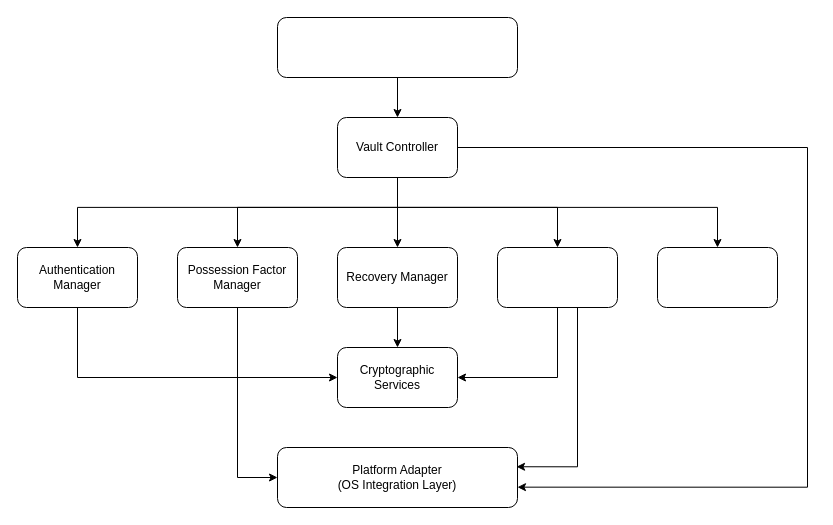
Some shapes in this 833 by 525 pixel diagram are drawn without their labels. Here are the shapes that lost their labels. From the top down, the box of each, then its label:
(276, 16, 518, 78): User Interface (GUI / CLI)
(496, 246, 618, 308): Vault Engine
(656, 246, 778, 308): Vault Security Metadata
